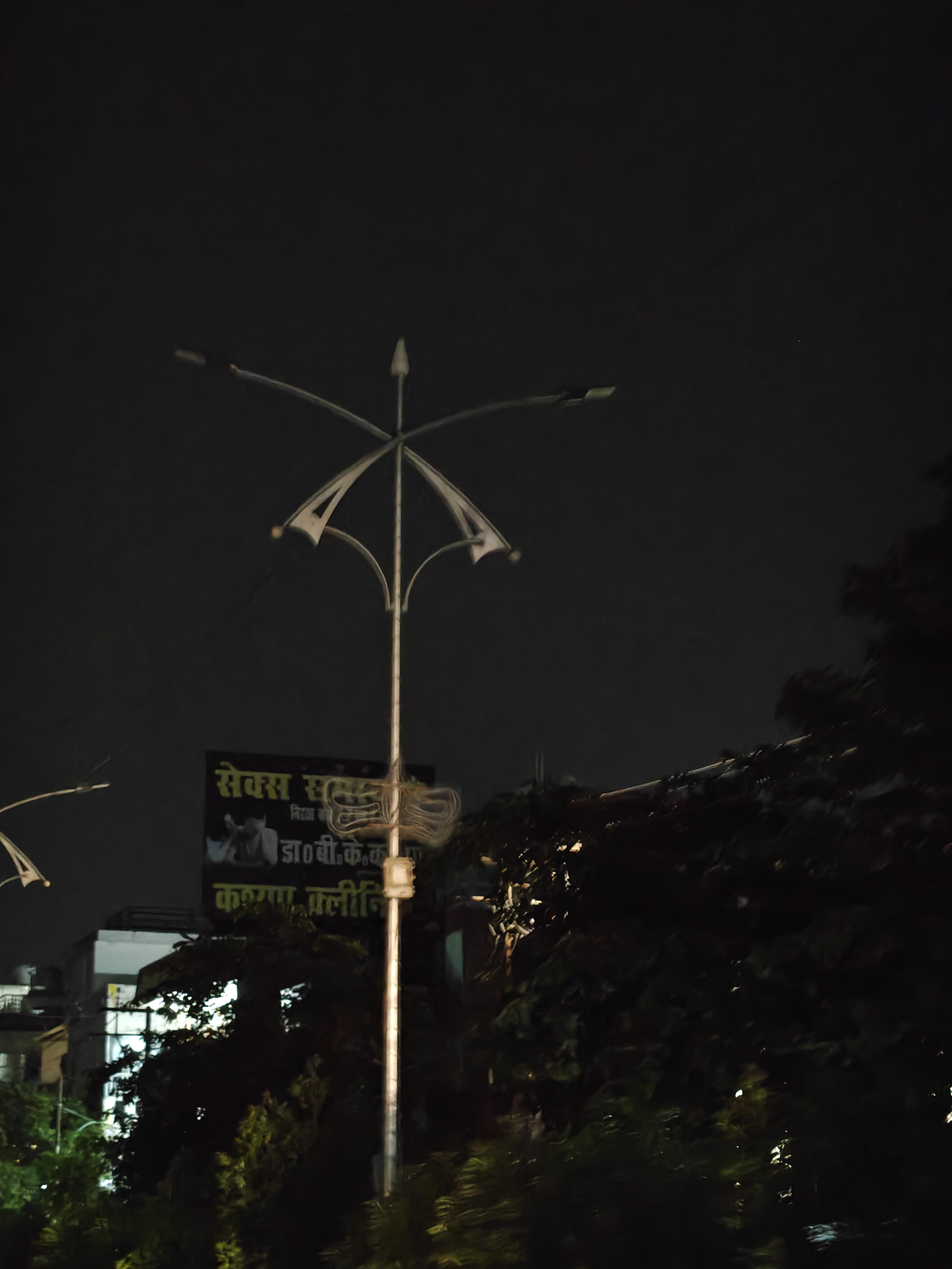streetlight: (171, 340, 380, 443), (410, 383, 618, 434)
